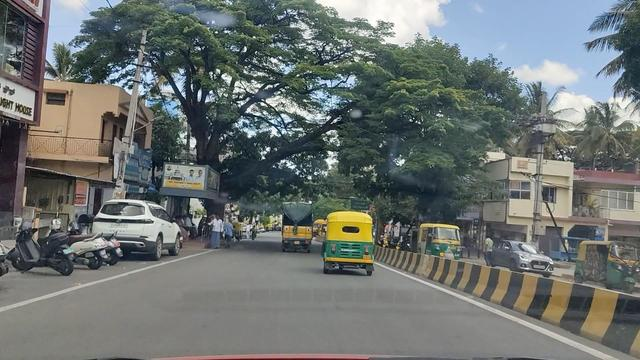HMV: (284, 202, 310, 252)
LMV: (326, 216, 376, 272)
